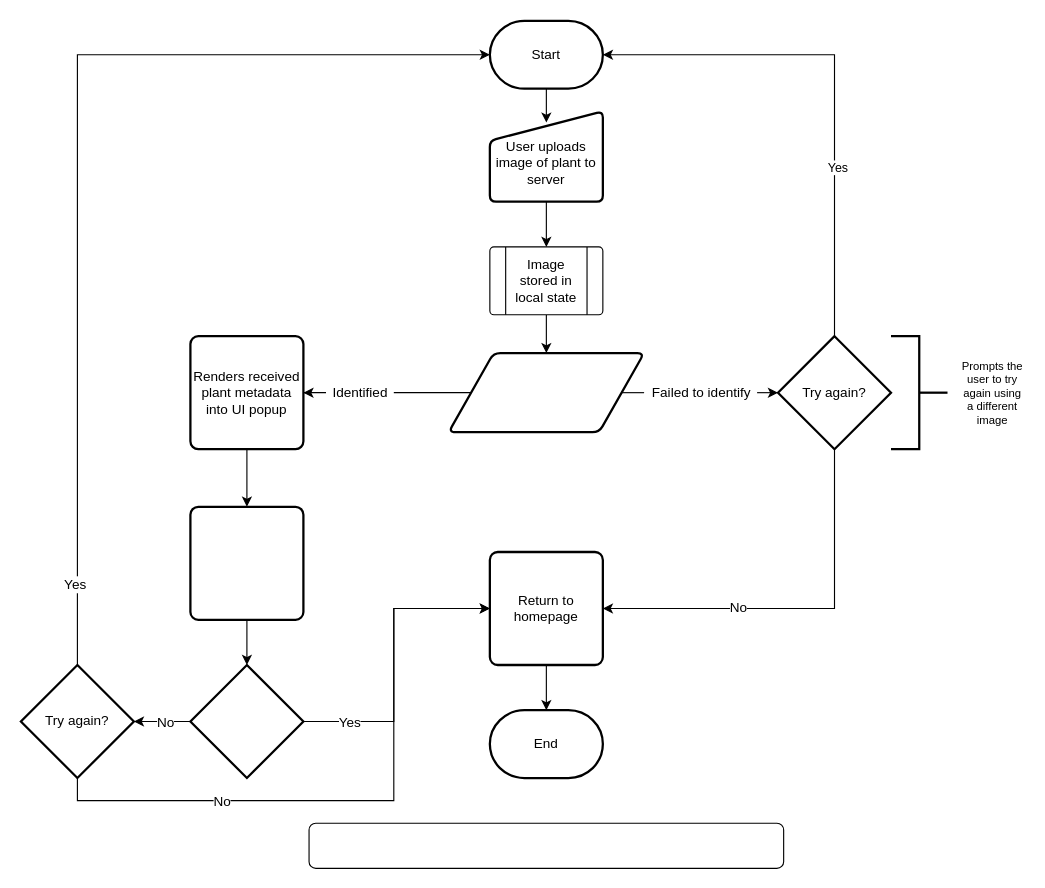
Some shapes in this 1045 by 888 pixel diagram are drawn without their labels. The shapes that lost their labels are listed below. From the top down, each one's centre as x and y in pixels, then its label:
At (x=546, y=392): "Plant.id api called with the image of the plant as a prop".
At (x=246, y=562): "Message to ask user if they believe the plant identification is correct".
At (x=246, y=721): "Identification correct?".
At (x=546, y=845): "IB CS Internal Assessment - Plant Identification System - Finn Lestrange".
